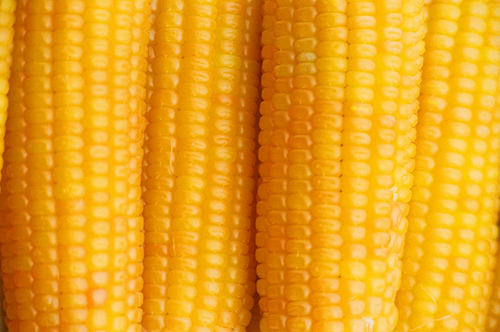corn: (254, 0, 429, 331), (0, 0, 144, 331), (142, 1, 259, 331), (396, 0, 498, 330)
